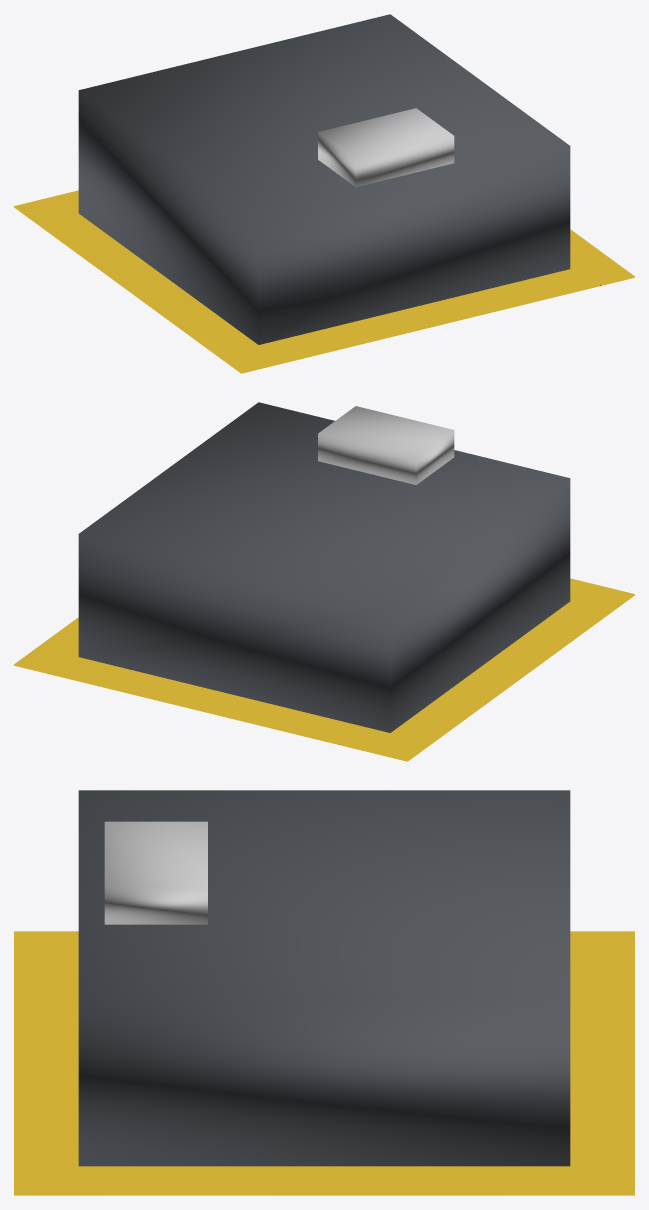
3 views of the same model, one above another, from view 1: azimuth 30°, elevation 25°; view 2: azimuth 150°, elevation 25°; view 3: azimuth 270°, elevation 25° (orthographic). The views are drawn at different scales.
Parts seen in each view (by area): view 1: building_simplified, ground_simplified, rooftop_simplified; view 2: building_simplified, ground_simplified, rooftop_simplified; view 3: building_simplified, ground_simplified, rooftop_simplified.
Part boxes in pixels (<box>): building_simplified: <box>78,14,570,344</box>; ground_simplified: <box>14,190,634,373</box>; rooftop_simplified: <box>318,108,454,186</box>; building_simplified: <box>78,402,570,732</box>; ground_simplified: <box>14,578,634,761</box>; rooftop_simplified: <box>318,406,454,484</box>; building_simplified: <box>78,790,570,1166</box>; ground_simplified: <box>14,931,634,1195</box>; rooftop_simplified: <box>104,821,207,924</box>.
Bounding box in the file's own units: 48 × 17.9 × 48.
Materials: 4 (4 with a texture image).
